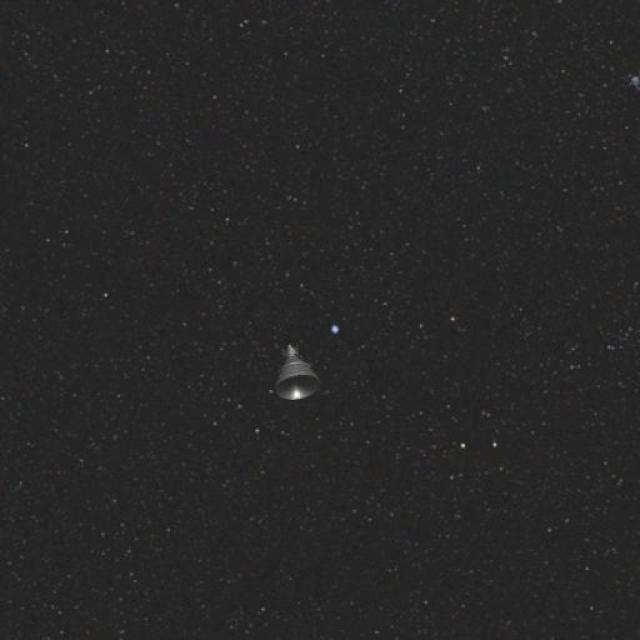debris: (258, 326, 333, 408)
